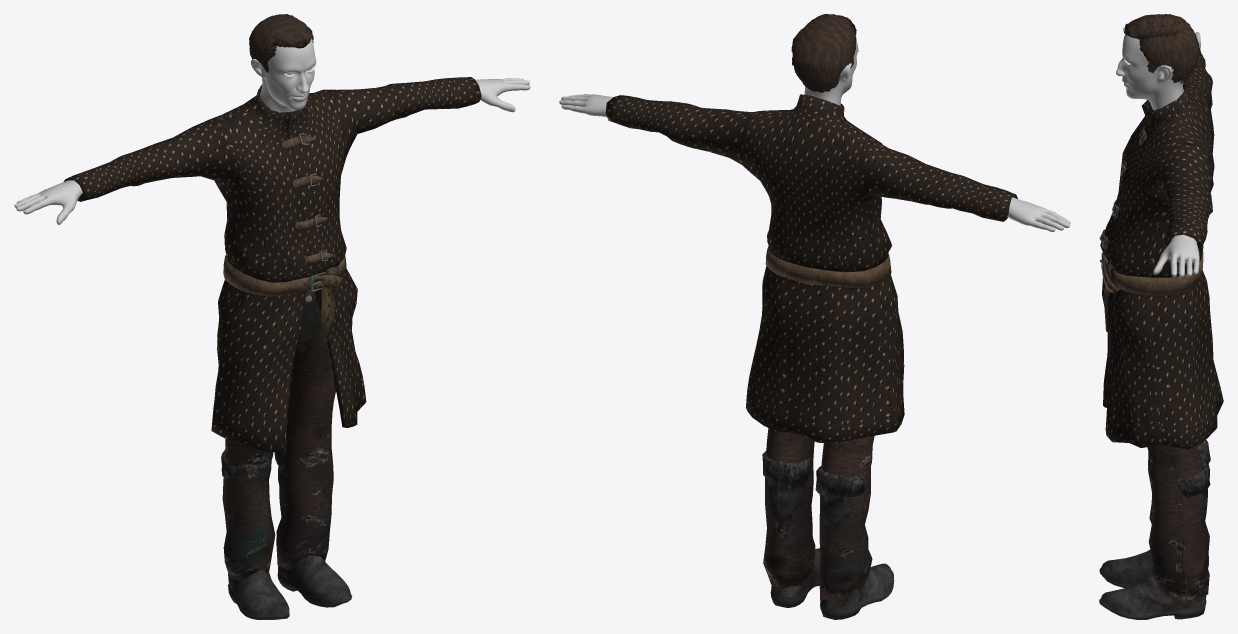
The model's file is pianist.obj.
3 views of the same model, side by side, from view 1: azimuth 30°, elevation 25°; view 2: azimuth 150°, elevation 25°; view 3: azimuth 270°, elevation 25° (orthographic).
Visible parts, largest first — view 1: Tops, Bottoms, Body, Shoes, Hair; view 2: Tops, Bottoms, Shoes, Hair, Body; view 3: Tops, Bottoms, Shoes, Body, Hair.
Boxes of the visible parts, <box> form: Tops: <box>63,77,481,452</box>; Bottoms: <box>222,290,335,579</box>; Body: <box>14,38,530,224</box>; Shoes: <box>221,448,352,619</box>; Hair: <box>249,14,313,72</box>; Tops: <box>605,94,1017,442</box>; Bottoms: <box>763,428,874,600</box>; Shoes: <box>762,451,894,619</box>; Hair: <box>791,14,856,92</box>; Body: <box>559,35,1070,232</box>; Tops: <box>1099,48,1223,449</box>; Bottoms: <box>1147,442,1209,602</box>; Shoes: <box>1099,439,1210,619</box>; Body: <box>1116,32,1200,277</box>; Hair: <box>1123,14,1199,83</box>.
Size of the model in its own units: 167 by 181 by 35.11.
